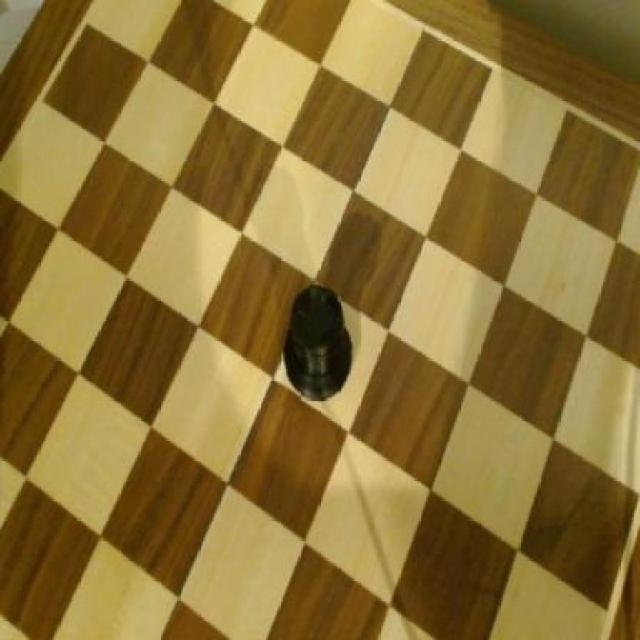black-queen: (283, 285, 360, 412)
